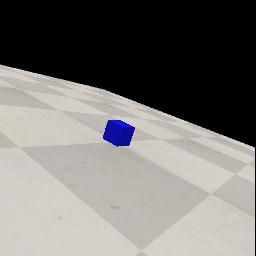box: (103, 120, 135, 147)
